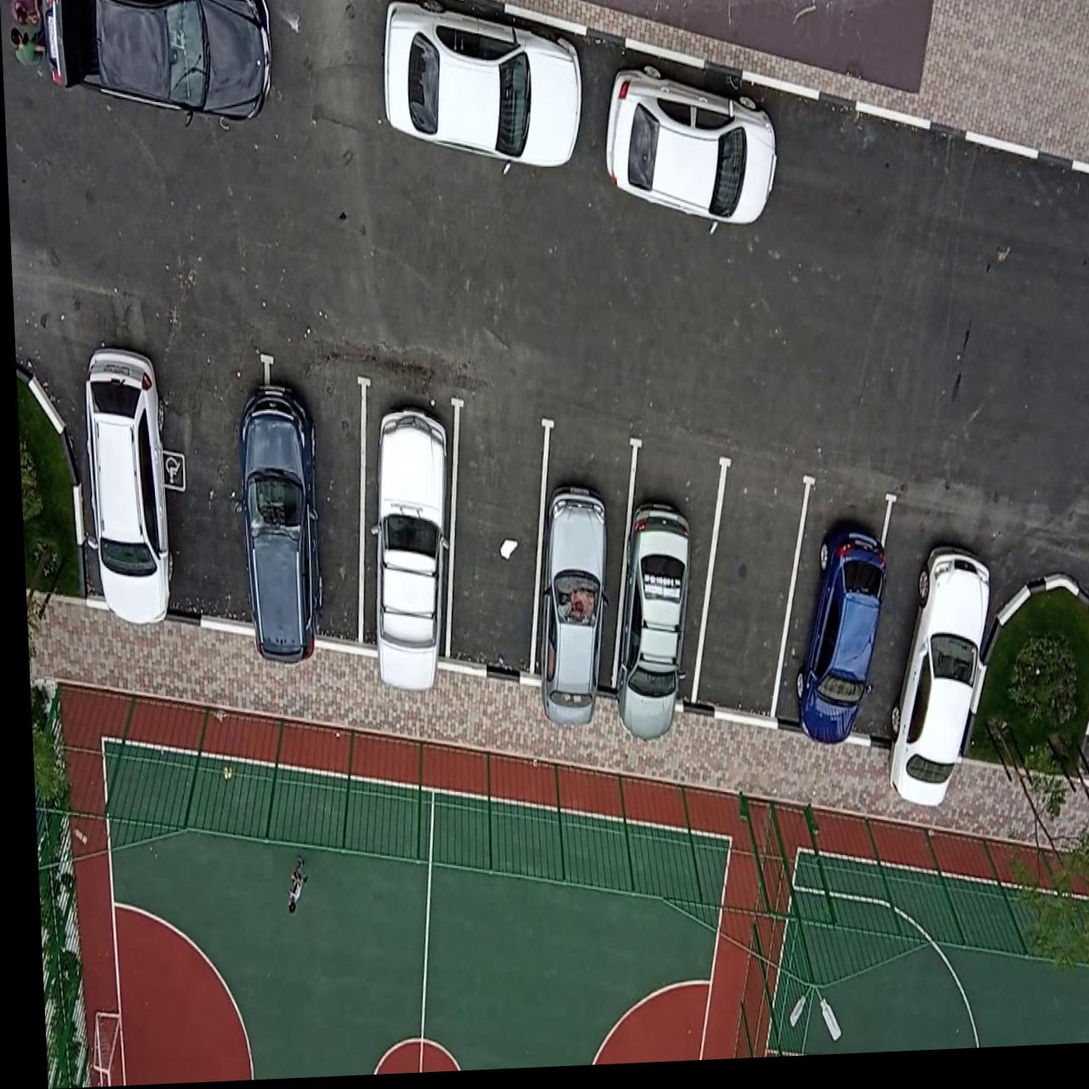cars: (777, 466, 890, 764), (257, 360, 370, 658), (350, 386, 467, 668), (174, 335, 276, 631), (80, 348, 188, 619), (624, 426, 713, 748), (874, 529, 998, 759), (548, 399, 628, 734)
empty: (698, 445, 808, 739), (450, 375, 545, 684)
